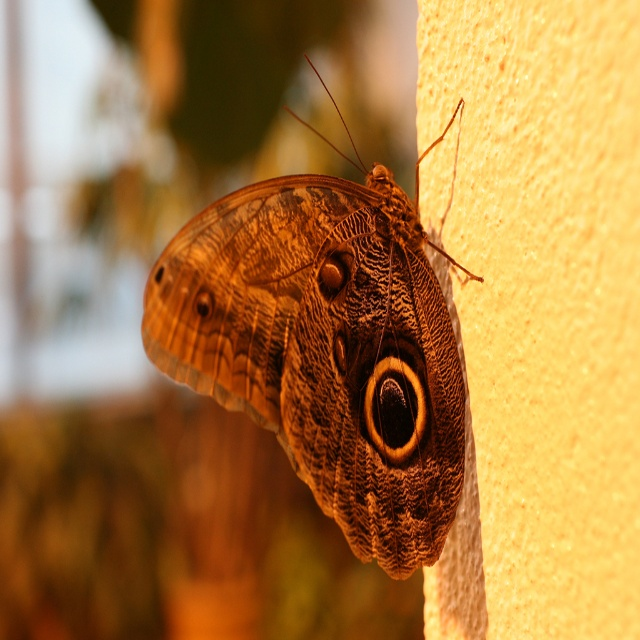Butterfly: (136, 72, 493, 587)
